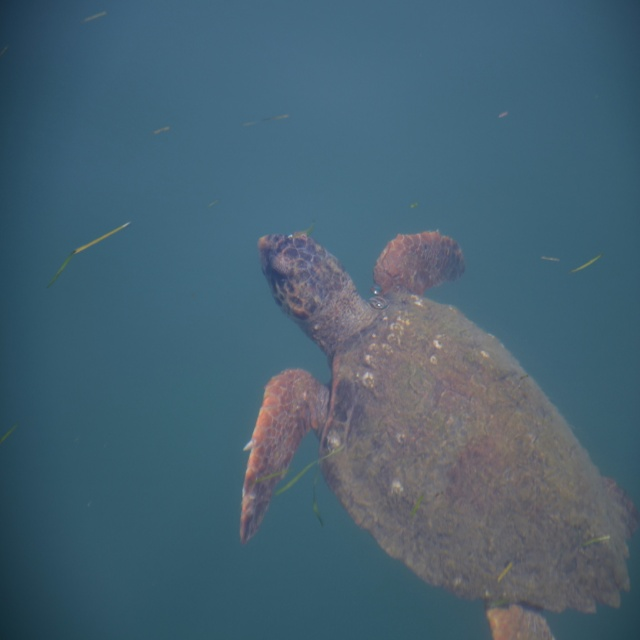Sea turtle: (234, 229, 640, 639)
